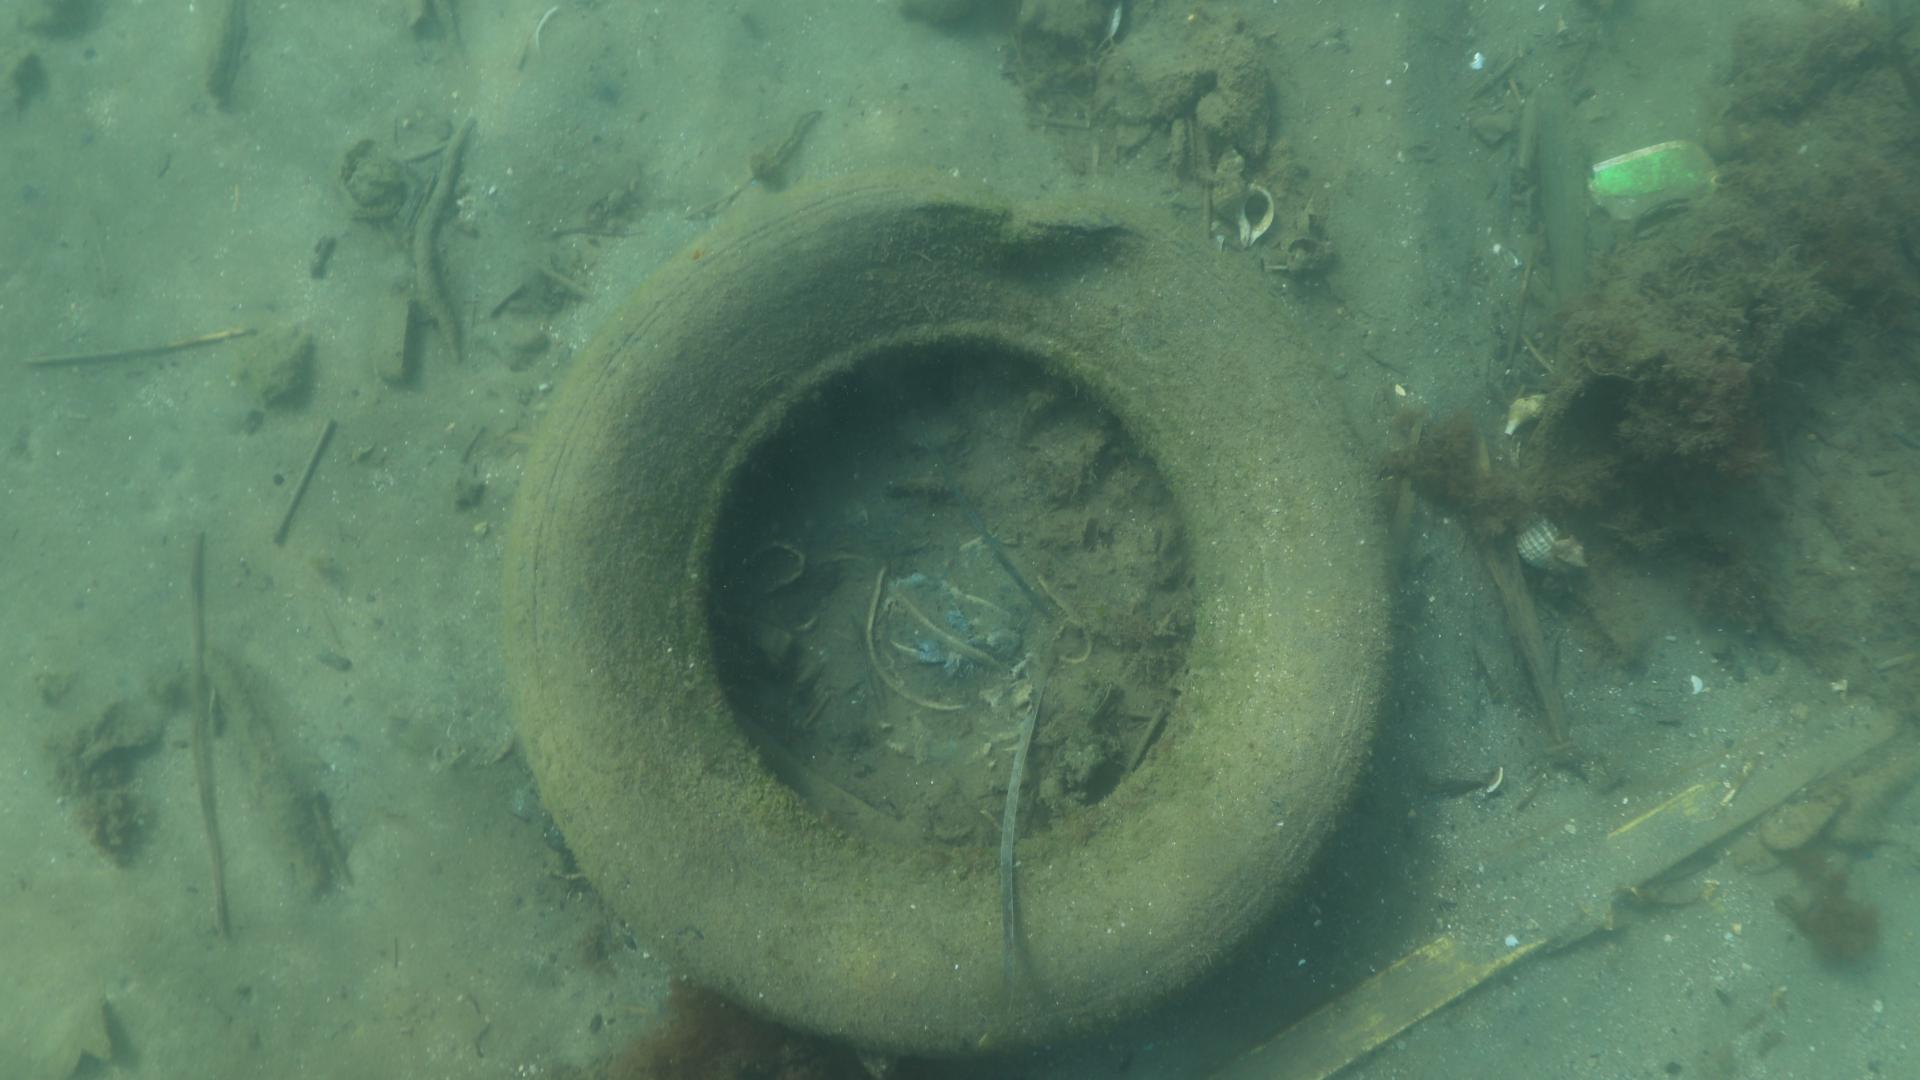tire: (501, 173, 1394, 1055)
